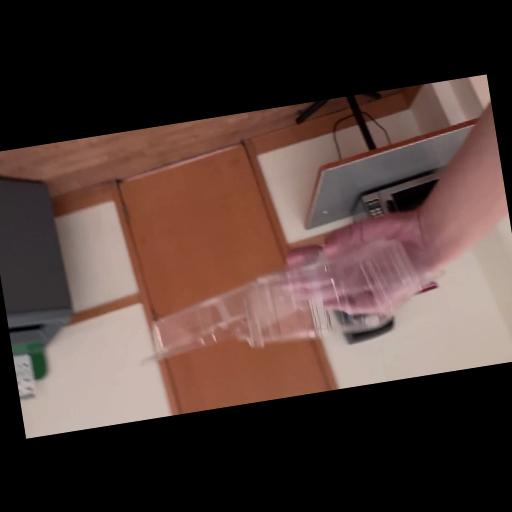small_plastic_container: (138, 232, 434, 366)
